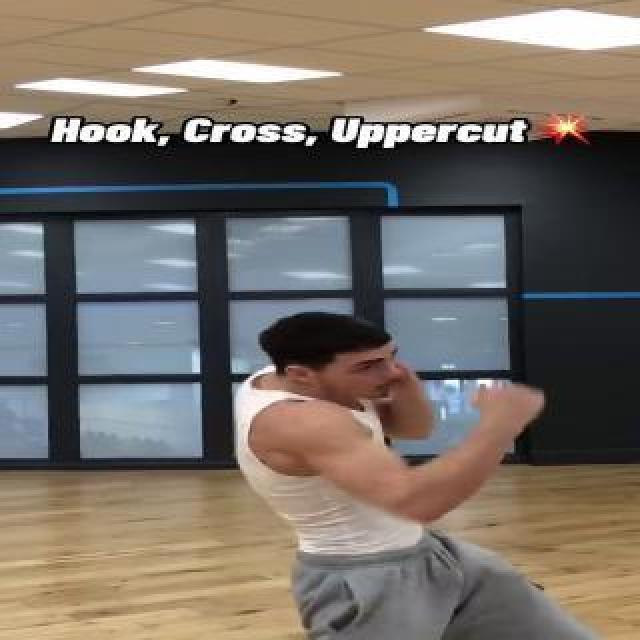fight: (199, 282, 627, 640)
